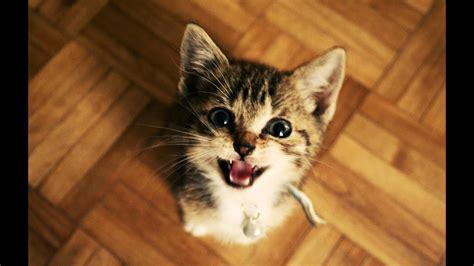cat: (177, 21, 345, 243)
